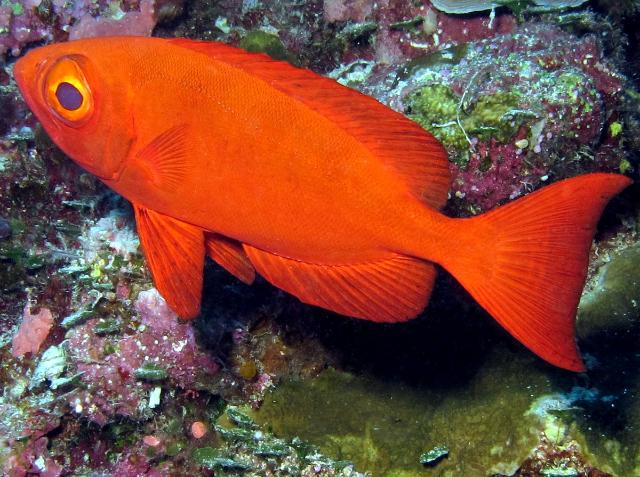Mulut: (7, 44, 41, 113)
Sirip Anal: (242, 227, 438, 327)
Sirip Dada: (125, 122, 198, 196)
Sirip Ekor: (459, 163, 637, 377)
Sirip Perut: (130, 200, 258, 322)
Sirip Punggung: (177, 24, 461, 210)
